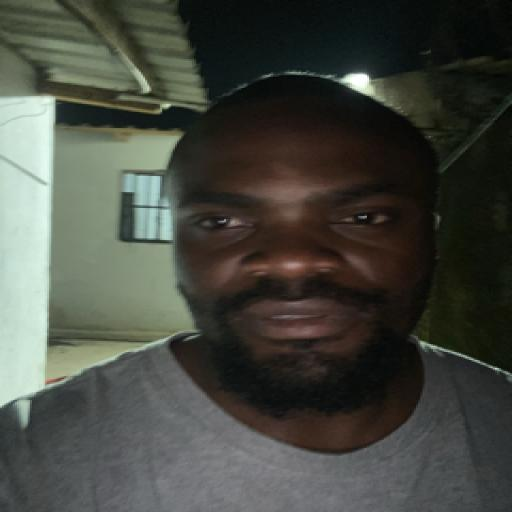JEANLUC: (156, 76, 460, 410)
